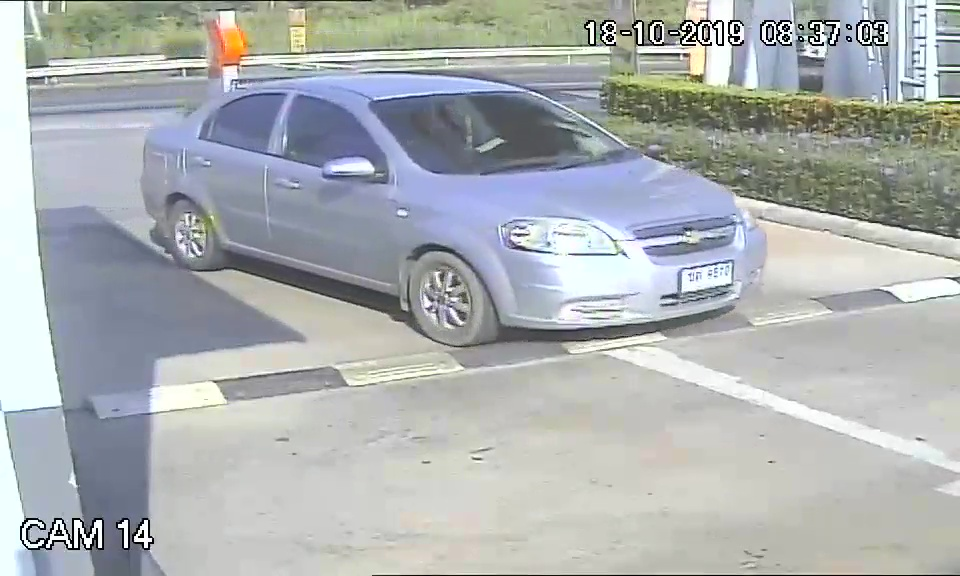sedan: (142, 70, 768, 350)
